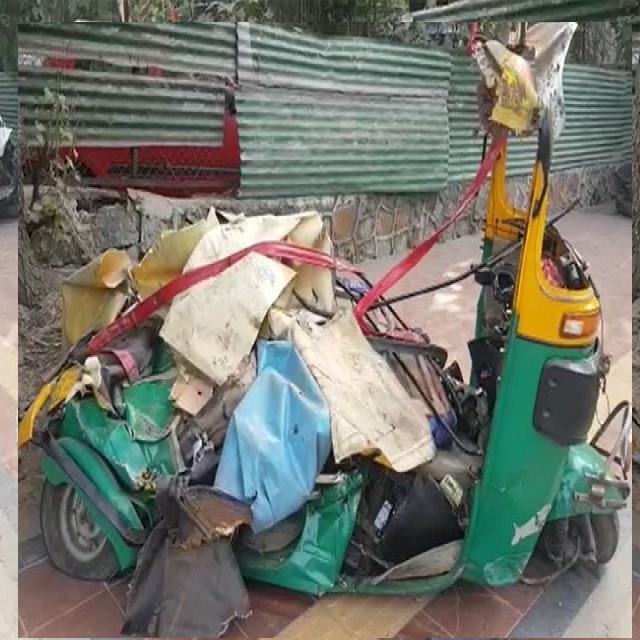accident: (18, 22, 632, 638)
